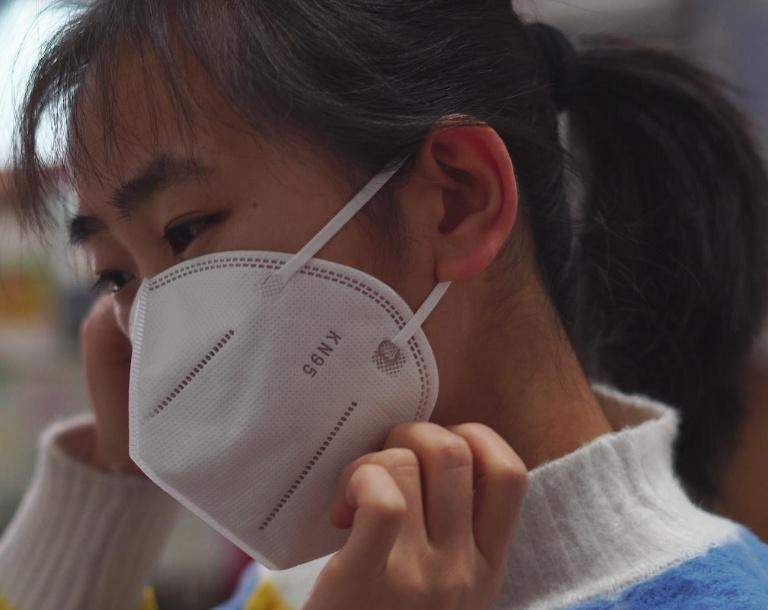OK: (71, 138, 426, 585)
